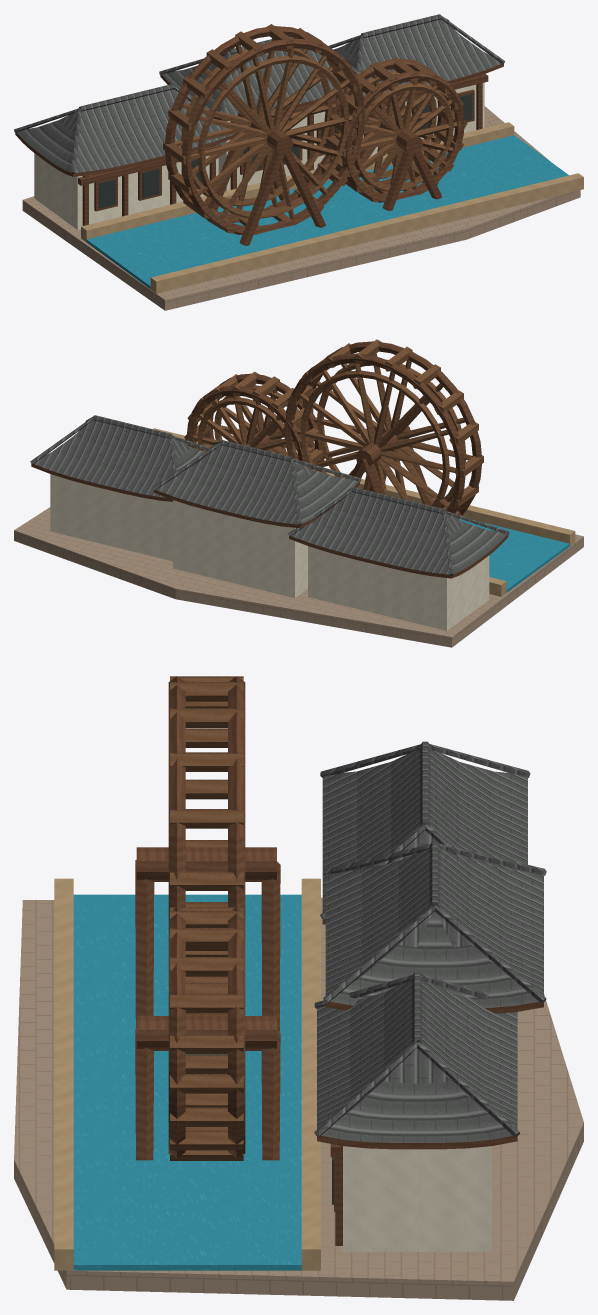
The model's file is lijiang.glb.
3 views of the same model, one above another, from view 1: azimuth 30°, elevation 25°; view 2: azimuth 150°, elevation 25°; view 3: azimuth 270°, elevation 25° (orthographic). The views are drawn at different scales.
Visible parts, largest first — view 1: 丽江古城; view 2: 丽江古城; view 3: 丽江古城.
Part boxes in pixels (<box>): 丽江古城: <box>14,14,583,310</box>; 丽江古城: <box>14,339,583,647</box>; 丽江古城: <box>14,676,583,1300</box>.
Size of the model in its own units: 10.52 by 4.49 by 6.5.
Materials: 8 (8 with a texture image).
